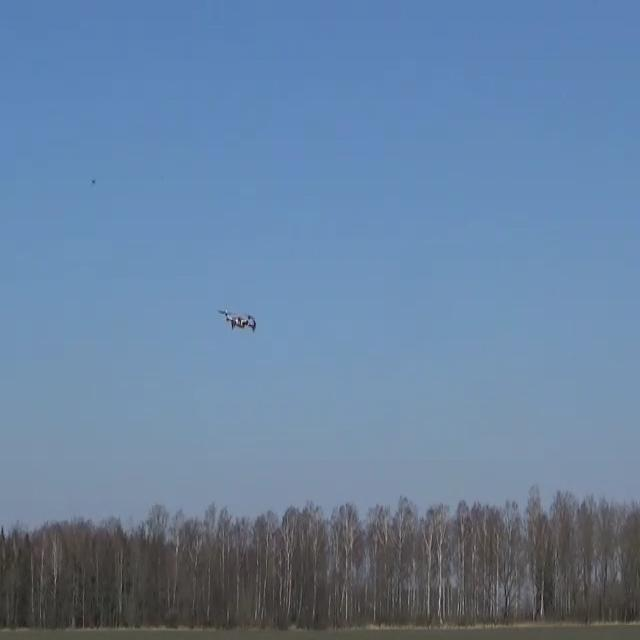drone: (217, 308, 256, 332)
